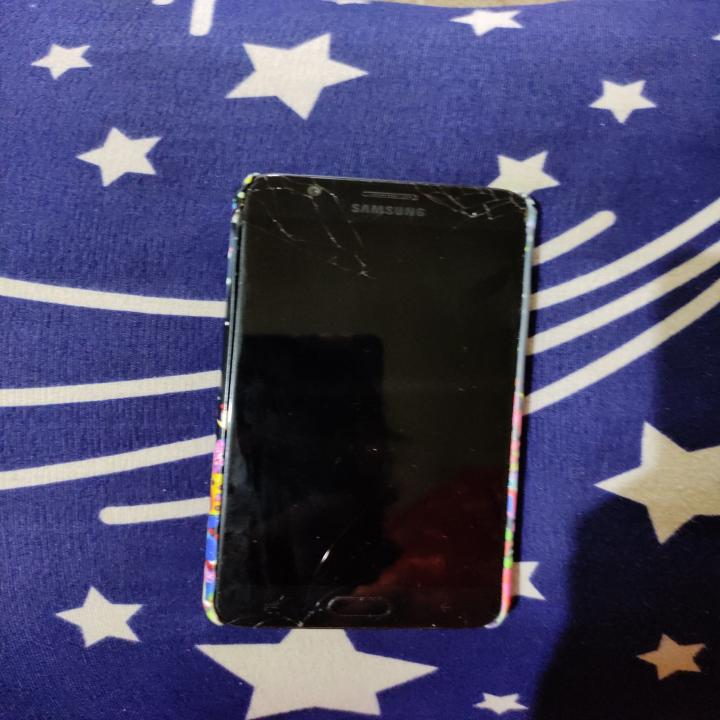Crack: (243, 171, 533, 289), (234, 578, 491, 636)
